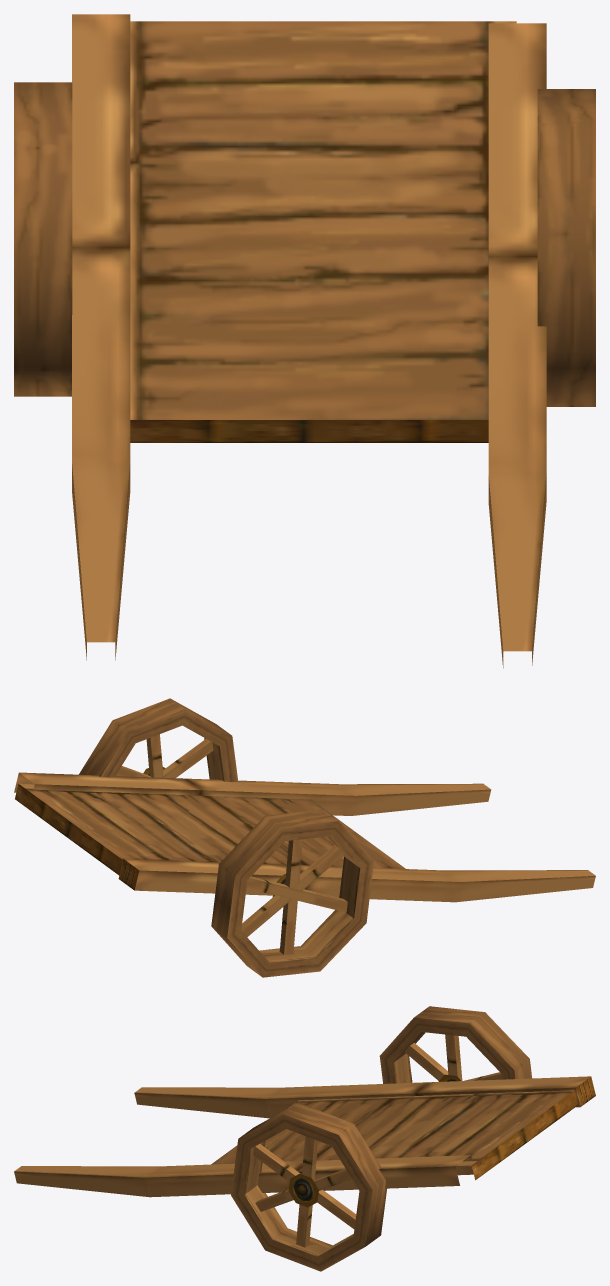
The model's file is sences_changbanpo_wujian023.FBX.
3 renders of one model, top to bottom at view 1: azimuth 30°, elevation 25°; view 2: azimuth 150°, elevation 25°; view 3: azimuth 270°, elevation 25°, orthographic. The views are drawn at different scales.
Visible parts, largest first — view 1: sences_changbanpo_wujian023; view 2: sences_changbanpo_wujian023; view 3: sences_changbanpo_wujian023.
Boxes of the visible parts, bbox=[...] form: sences_changbanpo_wujian023: bbox=[14, 14, 595, 668]; sences_changbanpo_wujian023: bbox=[14, 698, 595, 977]; sences_changbanpo_wujian023: bbox=[14, 1006, 595, 1271].
Bounding box in the file's own units: 2.45 × 3.06 × 0.8752.
